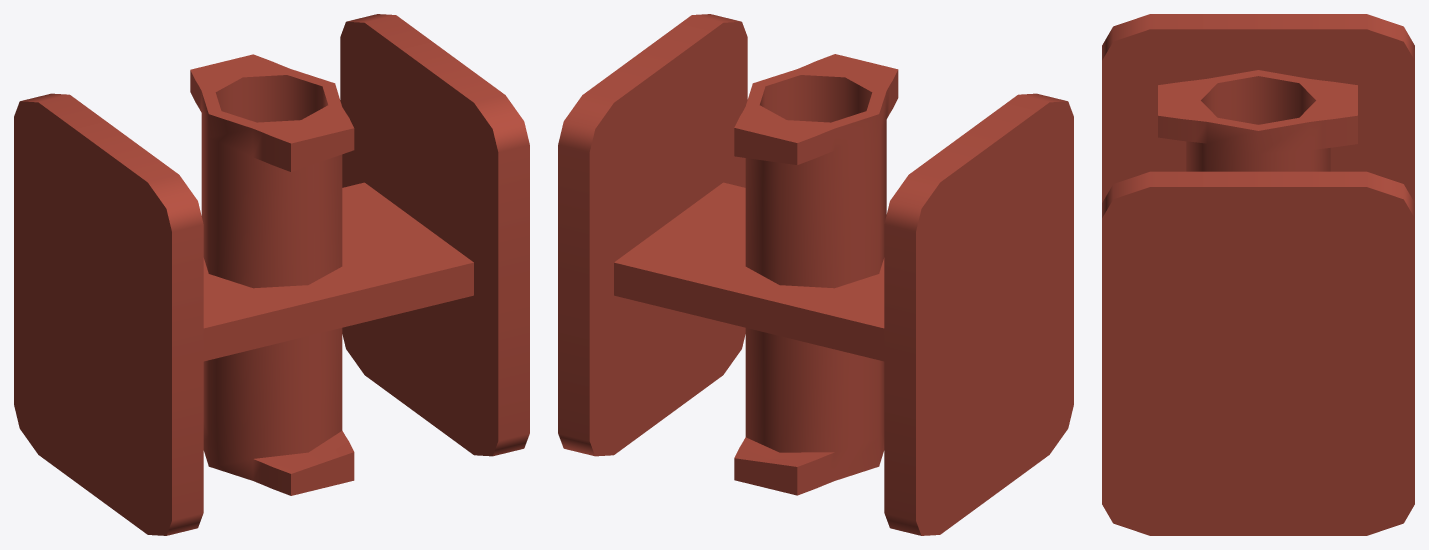
The model's file is luerlock_to_luerlock.fbx.
The picture shows the model from 3 angles, left to right: view 1: azimuth 30°, elevation 25°; view 2: azimuth 150°, elevation 25°; view 3: azimuth 270°, elevation 25°; orthographic projection.
Parts seen in each view (by area): view 1: luerLock_to_luerLock; view 2: luerLock_to_luerLock; view 3: luerLock_to_luerLock.
Boxes of the visible parts, x1,y1,x2,y2 form: luerLock_to_luerLock: [14, 14, 529, 535]; luerLock_to_luerLock: [558, 14, 1073, 535]; luerLock_to_luerLock: [1102, 14, 1414, 535].
Bounding box in the file's own units: 1.7 × 1.6 × 1.3.
